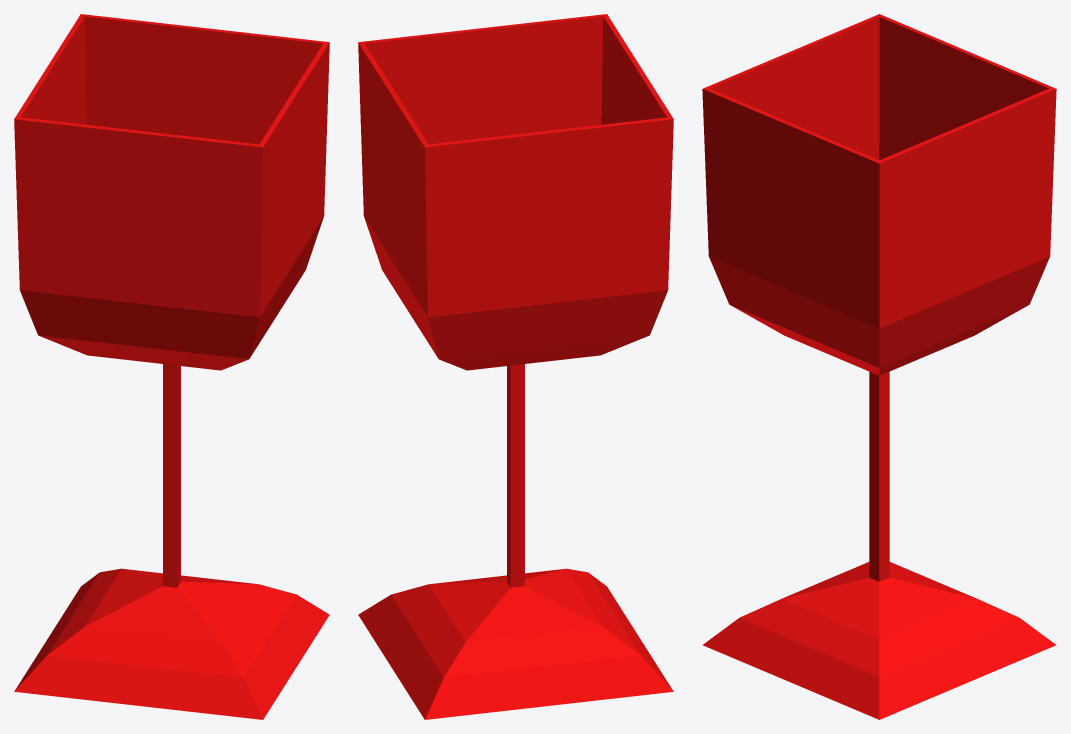
3 views of the same model, side by side, from view 1: azimuth 30°, elevation 25°; view 2: azimuth 150°, elevation 25°; view 3: azimuth 270°, elevation 25° (orthographic). The views are drawn at different scales.
Visible parts, largest first — view 1: Circle.007; view 2: Circle.007; view 3: Circle.007.
Boxes of the visible parts, box(x1,y1,x2,y2) form: Circle.007: box(14, 14, 329, 719); Circle.007: box(358, 14, 673, 719); Circle.007: box(702, 14, 1056, 719).
Size of the model in its own units: 24 by 41.6 by 24.
